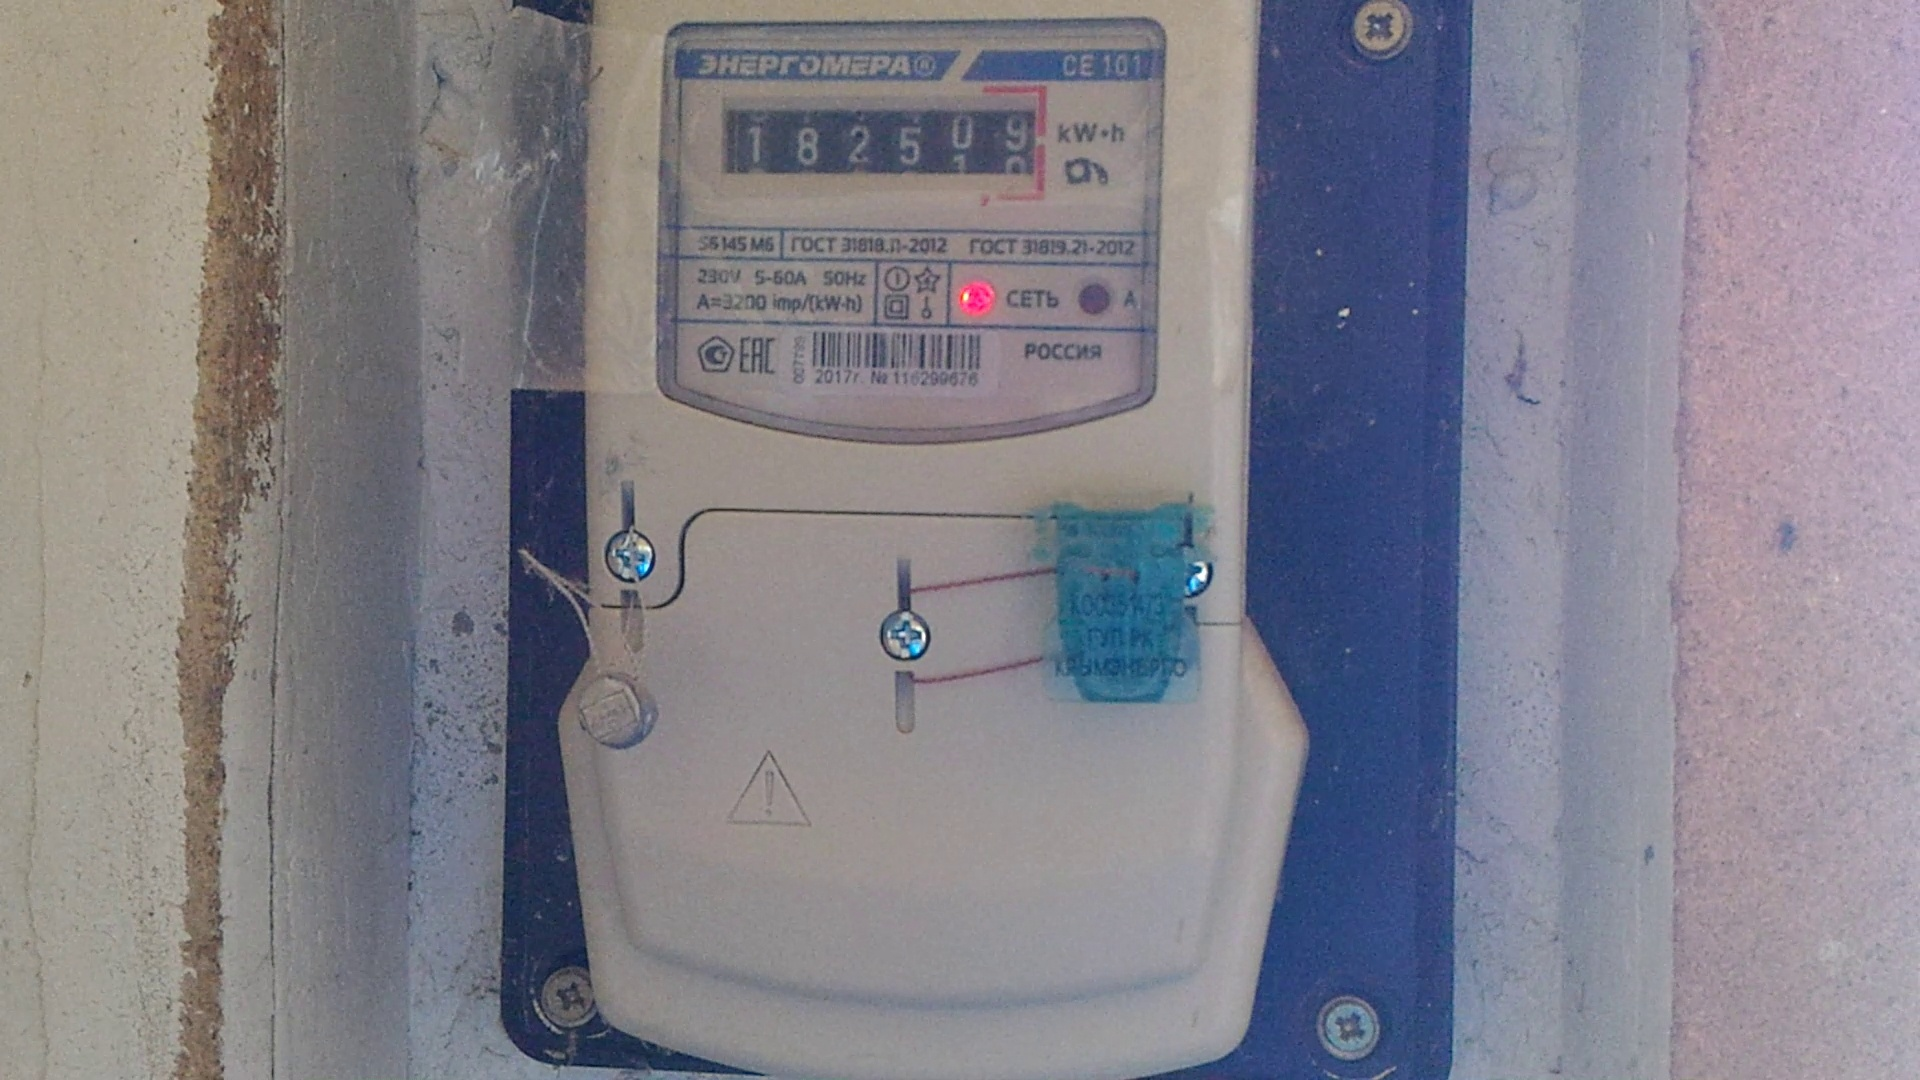counter: (588, 0, 1265, 1068)
counter_screen: (721, 105, 1039, 179)
